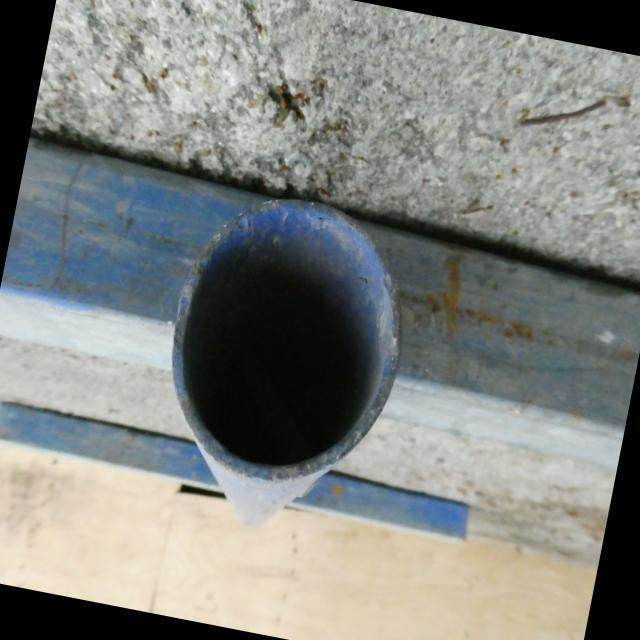pipe: (171, 202, 400, 480)
